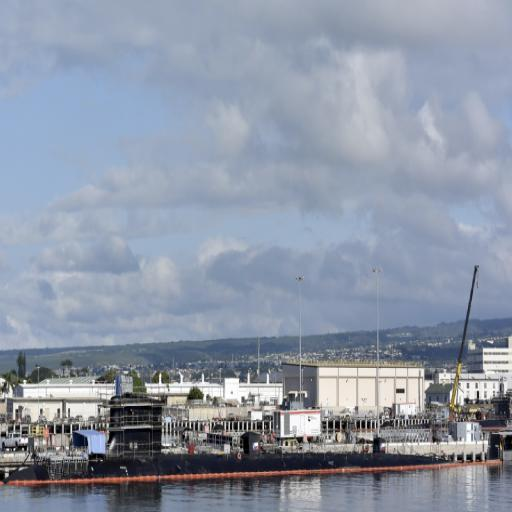submarine: (6, 394, 512, 483)
